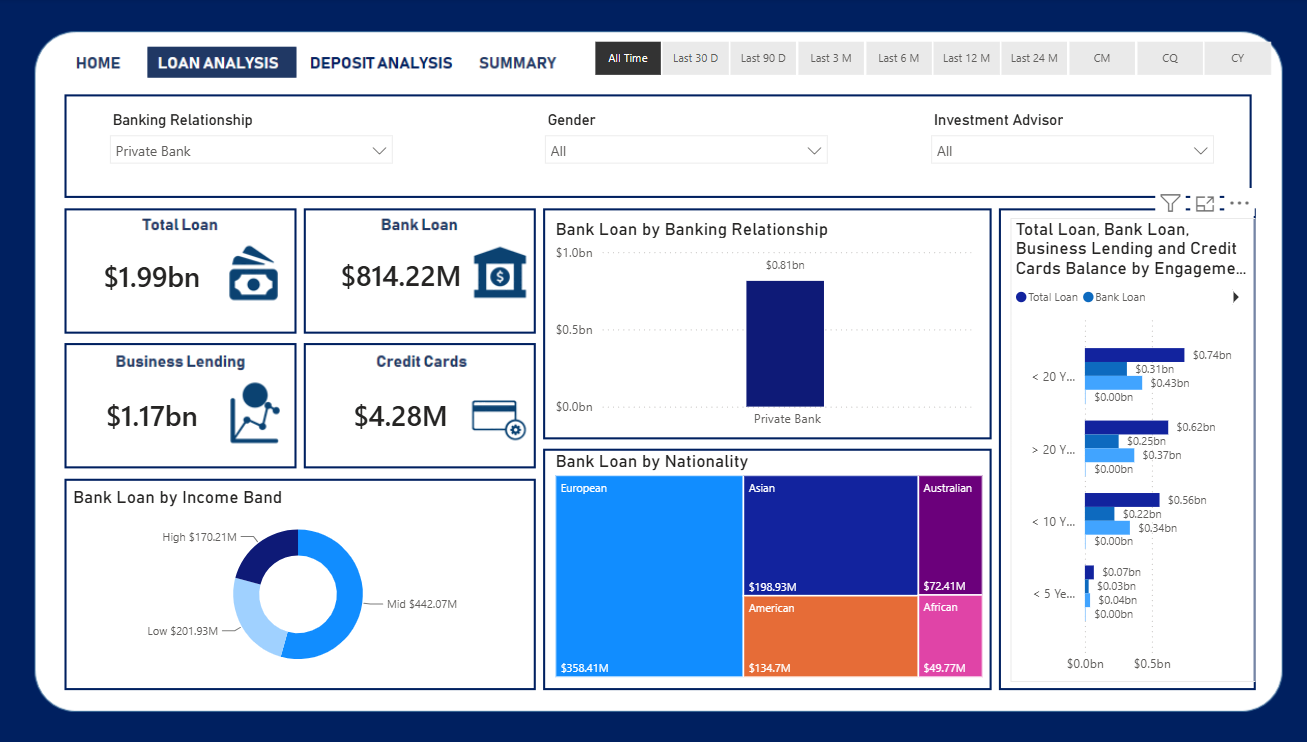

This screenshot's page, from the dashboard's own definition file:
{"tool":"powerbi","page":{"name":"Loan Analysis","canvas":[1280,720],"ordinal":1},"visuals":[{"type":"card","fields":{"Values":["DAX Measures.Total Loan"]},"box":[72.7,224,161.8,90.3],"z":0},{"type":"card","fields":{"Values":["DAX Measures.Bank Loan"]},"box":[307.2,224,172.4,89.1],"z":1000},{"type":"card","fields":{"Values":["DAX Measures.Credit Cards"]},"box":[307.2,360,171.2,89.1],"z":2000},{"type":"card","fields":{"Values":["DAX Measures.Business Lending"]},"box":[72.7,360,161.8,89.1],"z":3000},{"type":"slicer","fields":{"Values":["Banking Relationship.Banking Relationship"]},"box":[102.3,103.4,292.9,75.7],"z":4000},{"type":"slicer","fields":{"Values":["Gender.Gender"]},"box":[522.7,103.4,292.9,75.7],"z":5000},{"type":"slicer","fields":{"Values":["Investment Advisor.Investment Advisor"]},"box":[895,103.4,292.9,75.7],"z":6000},{"type":"donutChart","fields":{"Category":["Clients - Banking.Income Band"],"Y":["DAX Measures.Bank Loan"]},"box":[72.7,471.4,444.4,188.8],"z":7000},{"type":"clusteredBarChart","fields":{"Category":["Clients - Banking.Engagement Timeframe"],"Y":["DAX Measures.Total Loan","DAX Measures.Bank Loan","DAX Measures.Business Lending","DAX Measures.Credit Cards"]},"box":[981.5,212.2,236.9,447.9],"z":8000},{"type":"treemap","fields":{"Group":["Clients - Banking.Nationality"],"Values":["DAX Measures.Bank Loan"]},"box":[538.2,436.2,422.1,224],"z":9000},{"type":"lineClusteredColumnComboChart","fields":{"Y":["DAX Measures.Bank Loan"],"Category":["Banking Relationship.Banking Relationship"]},"box":[538.2,212.2,411.6,212.2],"z":10000},{"type":"slicer","fields":{"Values":["Period.Name"]},"box":[555.2,34.6,702.1,46.6],"z":11000},{"type":"actionButton","box":[72.8,44.2,58.5,31],"z":12000},{"type":"actionButton","box":[306.9,44.7,119.4,31],"z":13000},{"type":"actionButton","box":[471.6,44.2,83.6,31],"z":14000}]}

Visuals, with their boxes in screenshot pixels (x1, y1, x2, y2), scaled from the page's 1280x720 canvas onto the 1307x742 screenshot:
card - DAX Measures.Total Loan: 74 231 239 324
card - DAX Measures.Bank Loan: 314 231 490 323
card - DAX Measures.Credit Cards: 314 371 488 463
card - DAX Measures.Business Lending: 74 371 239 463
slicer - Banking Relationship.Banking Relationship: 104 107 404 185
slicer - Gender.Gender: 534 107 833 185
slicer - Investment Advisor.Investment Advisor: 914 107 1213 185
donutChart - Clients - Banking.Income Band x DAX Measures.Bank Loan: 74 486 528 680
clusteredBarChart - Clients - Banking.Engagement Timeframe x DAX Measures.Total Loan: 1002 219 1244 680
treemap - Clients - Banking.Nationality x DAX Measures.Bank Loan: 550 450 981 680
lineClusteredColumnComboChart - DAX Measures.Bank Loan x Banking Relationship.Banking Relationship: 550 219 970 437
slicer - Period.Name: 567 36 1284 84
actionButton: 74 46 134 77
actionButton: 313 46 435 78
actionButton: 482 46 567 77
